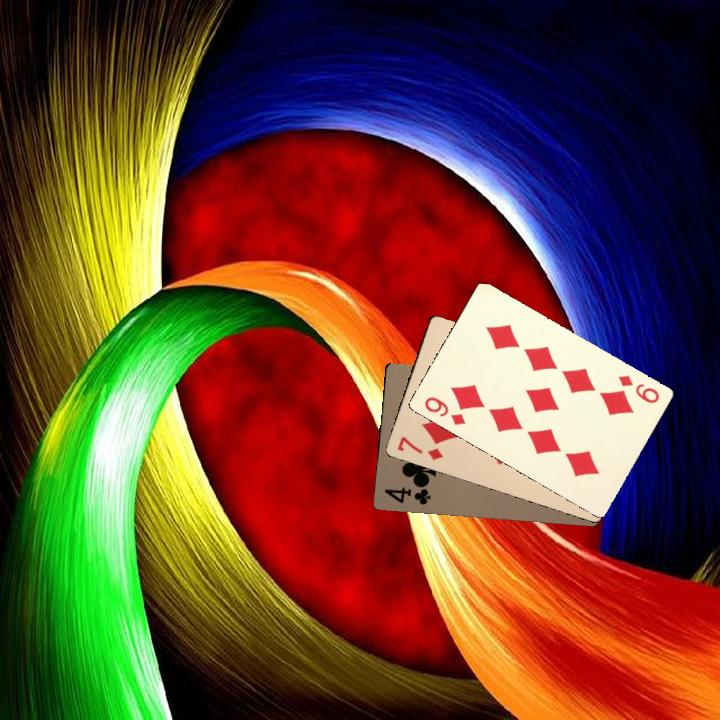4c: (381, 483, 433, 507)
7d: (393, 432, 446, 463)
9d: (420, 393, 468, 428), (614, 371, 662, 406)
